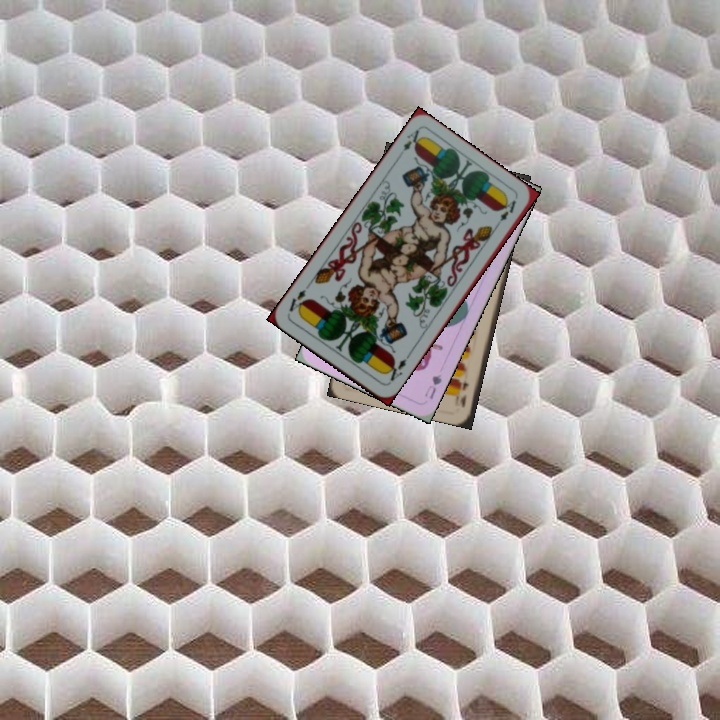E10: (455, 376, 471, 410)
EA: (382, 351, 412, 384), (399, 125, 425, 154)
GU: (421, 370, 444, 402)
